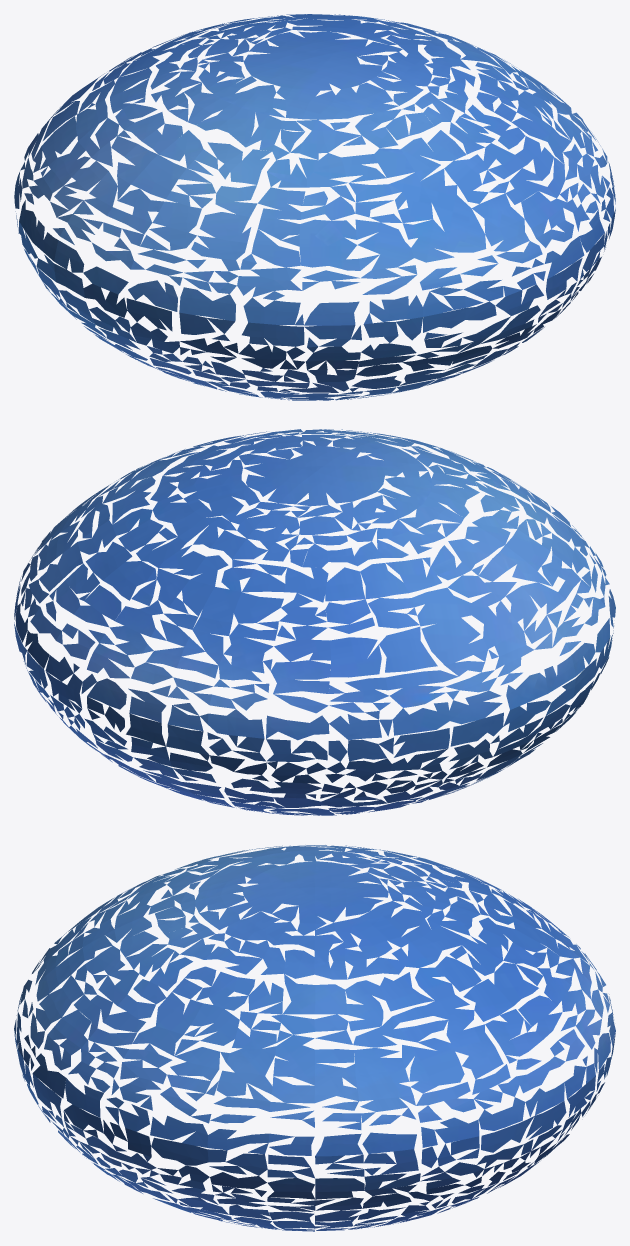
The model's file is bubble.glb.
3 views of the same model, one above another, from view 1: azimuth 30°, elevation 25°; view 2: azimuth 150°, elevation 25°; view 3: azimuth 270°, elevation 25° (orthographic).
Parts seen in each view (by area): view 1: world.001; view 2: world.001; view 3: world.001.
Part boxes in pixels (x1,y1,x2,y2): world.001: (14, 14, 615, 400); world.001: (14, 429, 615, 815); world.001: (14, 845, 615, 1231).
Size of the model in its own units: 1 by 0.5491 by 0.9993.
Materials: 1 (1 with a texture image).
